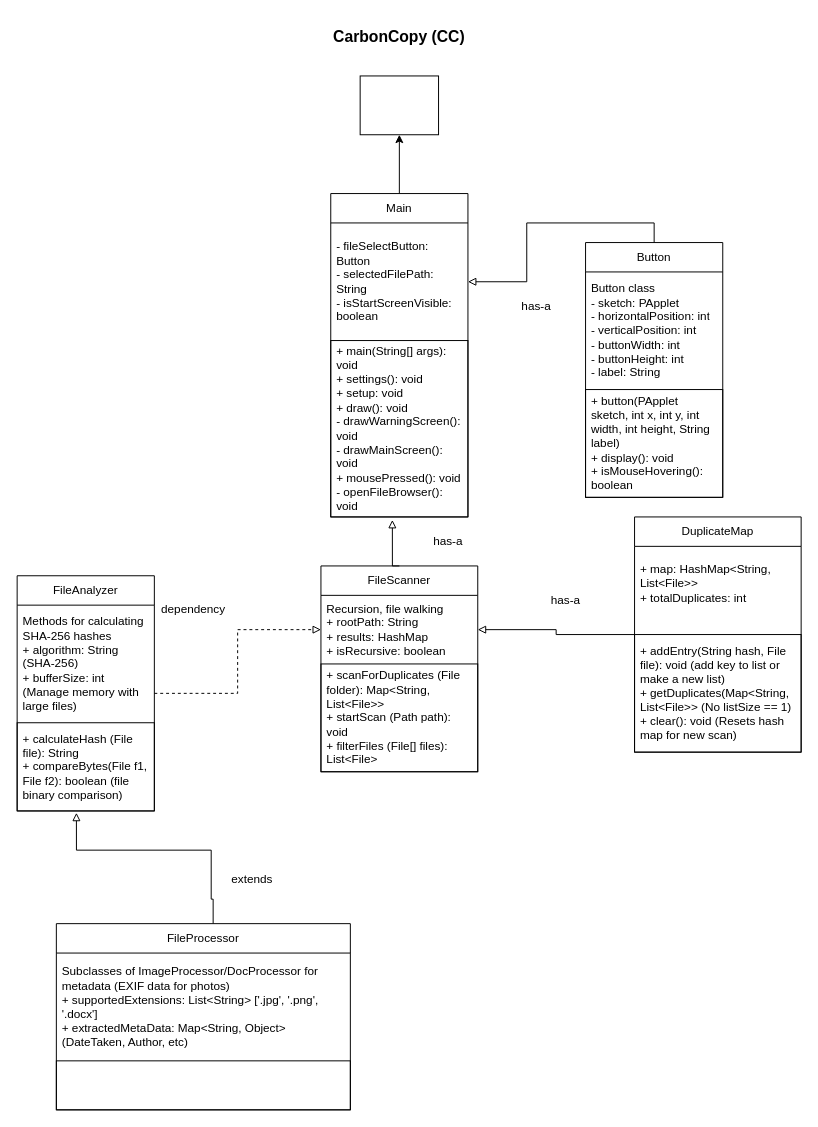
Image size: 818x1127. Some labels were removed from this diagram. The shapes that lost their labels are listed below. From the top down, each one's centre as x and y in pixels, then its label:
At point 399,105: "RUNNABLE ENTRY POINT".
At point 202,1085: "+ parseDocument (File doc): String + extractExif(File image): void".
